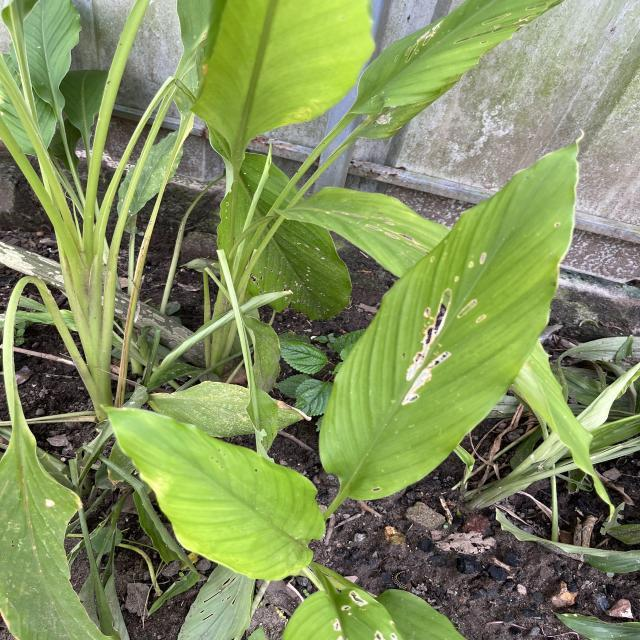Curcuma longa: (310, 126, 594, 506)
